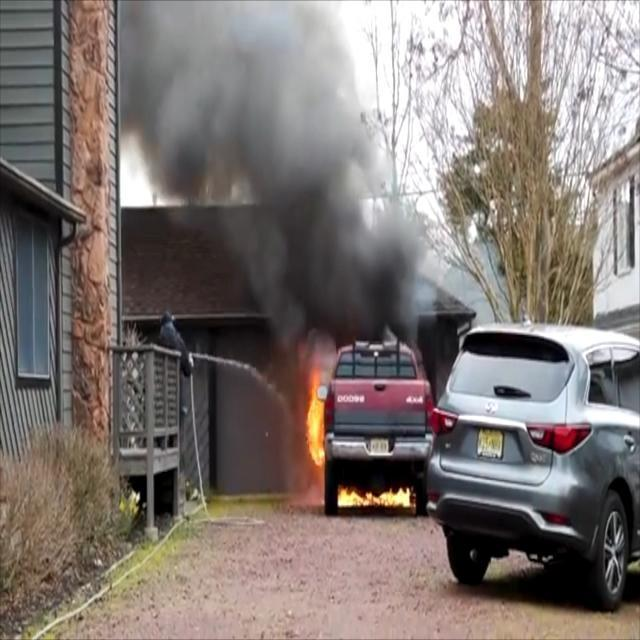fire: (298, 356, 328, 478), (329, 488, 412, 516)
